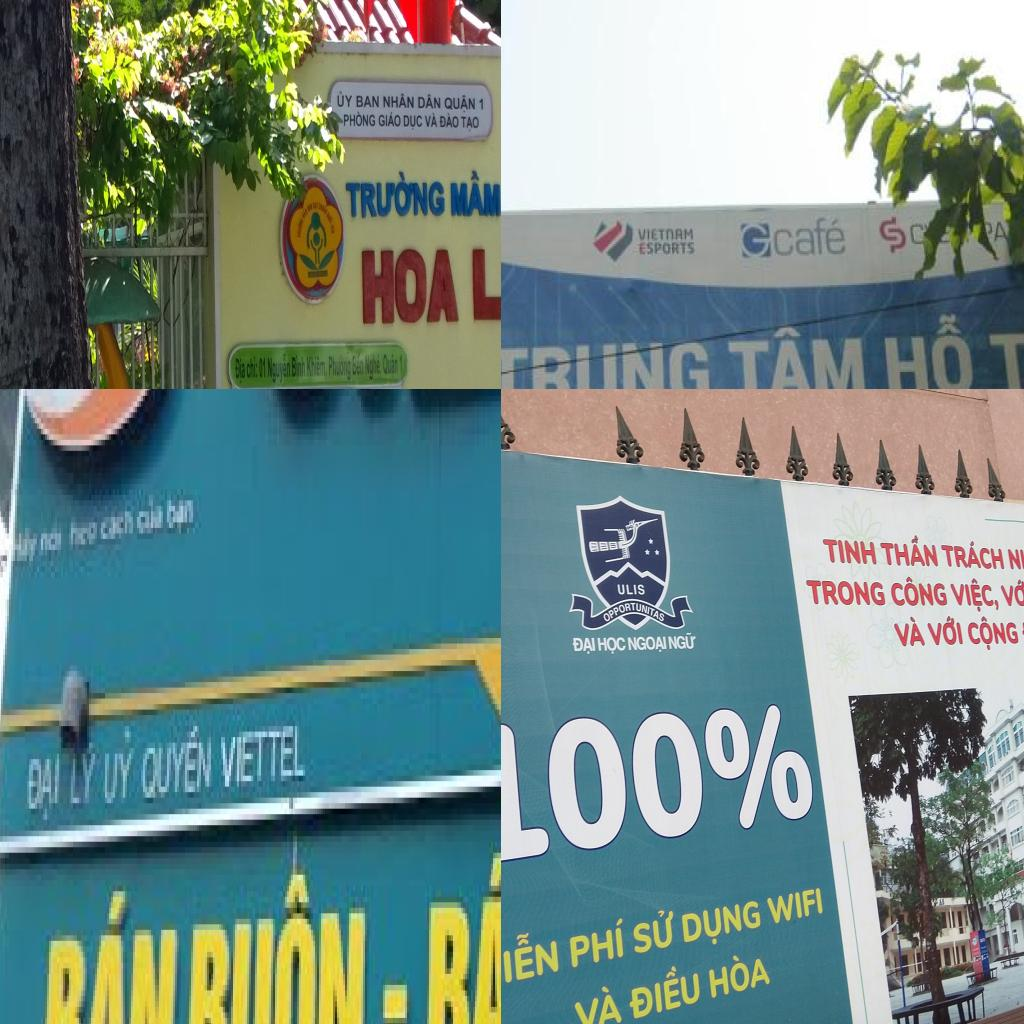text: (501, 700, 823, 869), (185, 863, 371, 1024), (41, 886, 179, 1024), (425, 847, 501, 1024), (501, 336, 715, 389), (722, 315, 866, 389), (362, 248, 460, 325), (141, 710, 217, 808), (217, 720, 311, 798), (880, 312, 974, 389), (623, 954, 700, 1024), (344, 171, 446, 219), (680, 897, 764, 951), (501, 925, 562, 990), (773, 215, 849, 259), (101, 720, 139, 808), (704, 951, 773, 999), (567, 915, 627, 969), (25, 748, 63, 825), (983, 322, 1024, 389), (67, 732, 99, 814), (472, 235, 501, 322), (569, 980, 626, 1024), (805, 578, 888, 607), (450, 170, 501, 217), (767, 885, 825, 926), (965, 613, 1024, 652), (628, 906, 674, 956), (879, 532, 939, 567), (99, 495, 137, 550), (947, 576, 1001, 612), (942, 540, 1006, 570), (888, 576, 948, 607), (165, 490, 197, 544), (65, 511, 99, 561), (597, 601, 667, 625), (822, 537, 878, 566), (13, 522, 41, 578), (137, 489, 165, 539), (736, 224, 773, 260), (923, 615, 965, 646), (890, 615, 927, 648), (39, 517, 65, 561), (638, 240, 696, 258), (627, 634, 668, 655), (638, 227, 695, 242), (997, 578, 1024, 608), (1003, 540, 1024, 577), (268, 353, 290, 385), (328, 355, 352, 383), (444, 94, 476, 114), (597, 636, 627, 656), (666, 632, 699, 650), (569, 635, 597, 656), (344, 110, 376, 128), (306, 356, 328, 380), (383, 93, 415, 109), (365, 353, 382, 381), (382, 353, 398, 380), (993, 220, 1009, 246), (418, 92, 441, 110), (378, 110, 401, 128), (909, 224, 925, 248), (614, 584, 646, 595), (440, 112, 459, 130), (460, 116, 480, 133), (292, 355, 306, 378), (356, 95, 380, 108), (404, 115, 423, 131), (352, 352, 364, 376), (235, 358, 246, 384), (246, 356, 258, 379), (338, 91, 353, 109), (424, 112, 438, 130), (259, 357, 266, 378), (399, 354, 404, 374), (479, 98, 484, 110)
